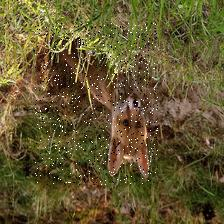fox: (33, 22, 157, 184)
